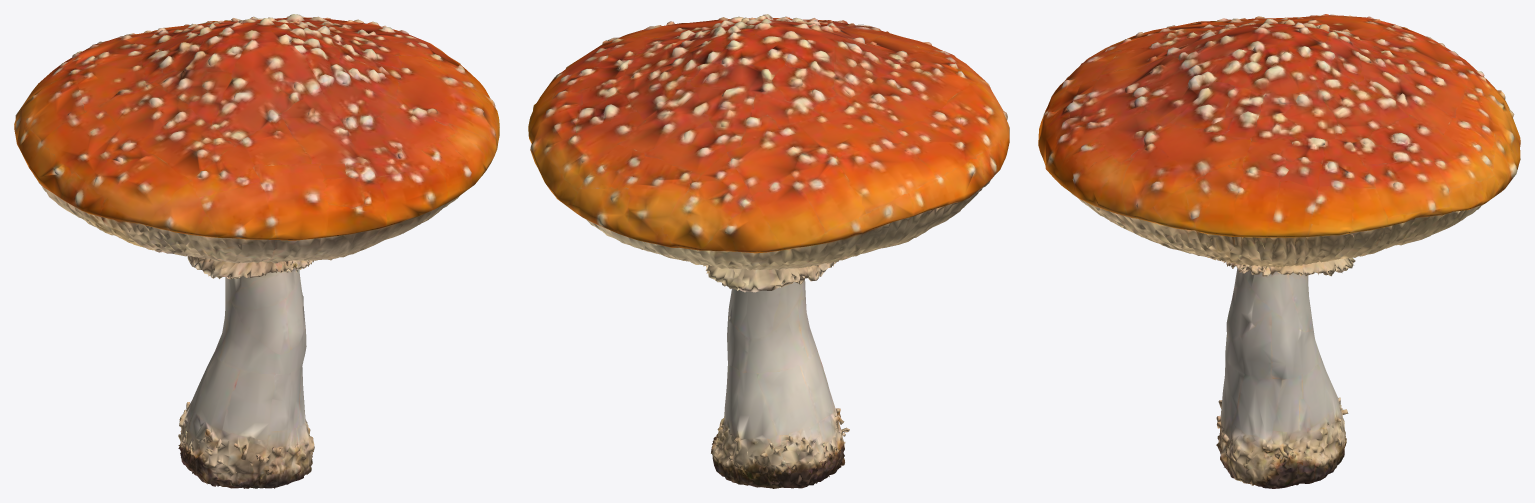
The model's file is mushroom1.glb.
The picture shows the model from 3 angles, left to right: view 1: azimuth 30°, elevation 25°; view 2: azimuth 150°, elevation 25°; view 3: azimuth 270°, elevation 25°; orthographic projection.
Size of the model in its own units: 1.99 by 2 by 2.
Materials: 1 (1 with a texture image).
